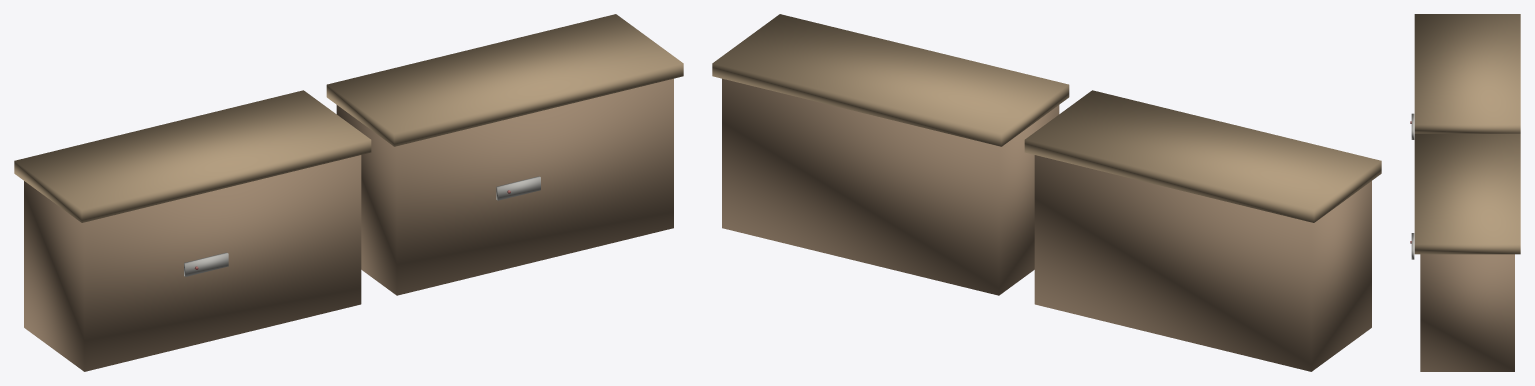
Rendered from bagging_stand__cluster.glb.
3 views of the same model, side by side, from view 1: azimuth 30°, elevation 25°; view 2: azimuth 150°, elevation 25°; view 3: azimuth 270°, elevation 25° (orthographic). The views are drawn at different scales.
Parts seen in each view (by area): view 1: world; view 2: world; view 3: world.
Boxes of the visible parts, <box> form: world: <box>14,14,683,371</box>; world: <box>712,14,1381,371</box>; world: <box>1410,14,1520,371</box>.
Size of the model in its own units: 3.91 by 1.03 by 0.791.
